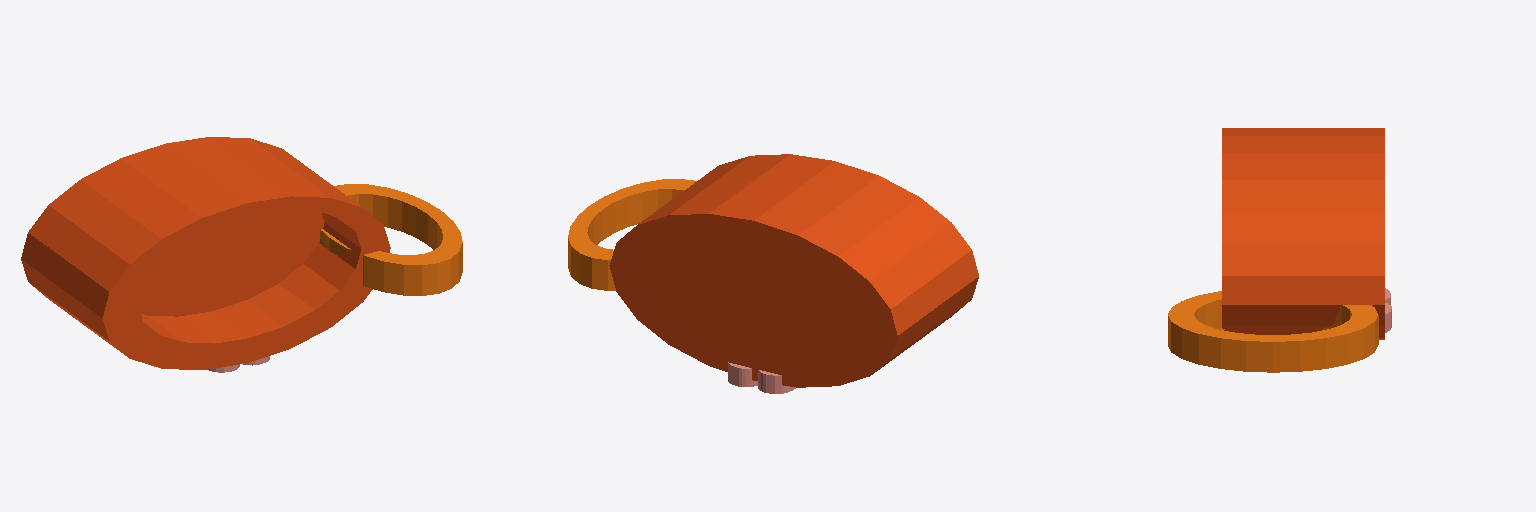
The model's file is tinker.obj.
3 views of the same model, side by side, from view 1: azimuth 30°, elevation 25°; view 2: azimuth 150°, elevation 25°; view 3: azimuth 270°, elevation 25° (orthographic).
Visible parts, largest first — view 1: obj_0; view 2: obj_0; view 3: obj_0.
Boxes of the visible parts, x1=… form: obj_0: x1=21, y1=137, x2=462, y2=372; obj_0: x1=568, y1=154, x2=978, y2=393; obj_0: x1=1168, y1=128, x2=1391, y2=372.
Size of the model in its own units: 62 by 27 by 33.